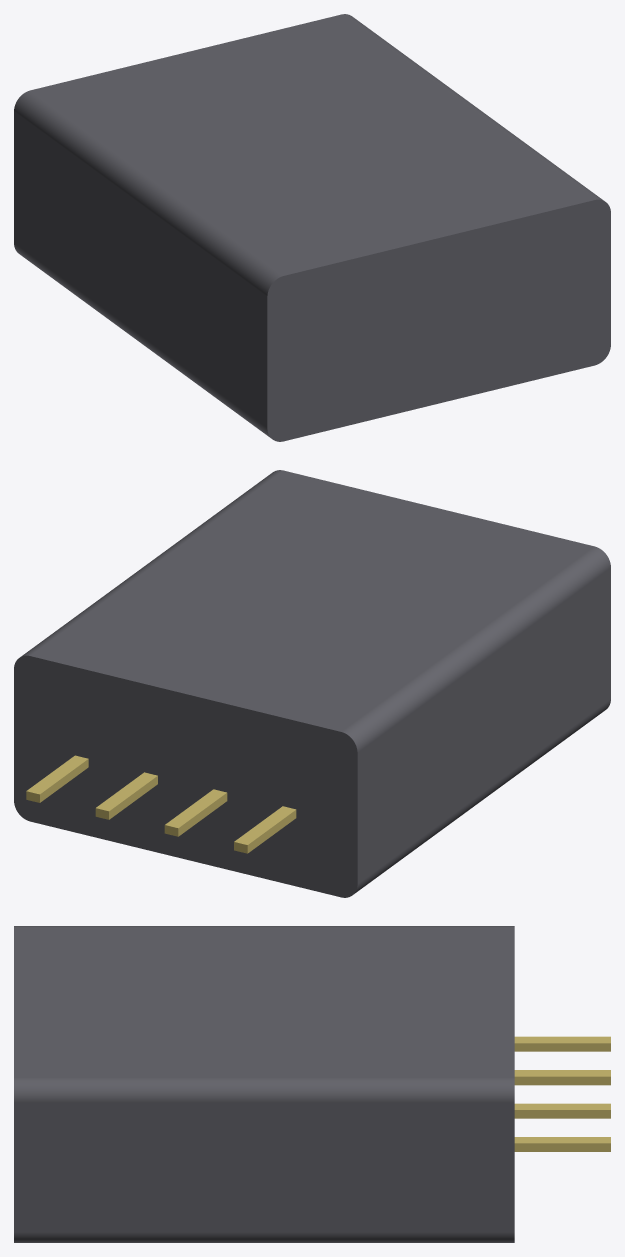
Rendered from dht20.glb.
3 views of the same model, one above another, from view 1: azimuth 30°, elevation 25°; view 2: azimuth 150°, elevation 25°; view 3: azimuth 270°, elevation 25° (orthographic).
Visible parts, largest first — view 1: extra; view 2: extra, pins; view 3: extra, pins.
Part boxes in pixels (<box>): extra: <box>14,14,610,441</box>; extra: <box>14,470,610,897</box>; pins: <box>26,755,296,853</box>; extra: <box>14,926,514,1242</box>; pins: <box>514,1036,610,1151</box>.
Bounding box in the file's own units: 12.6 × 5.8 × 19.2.
